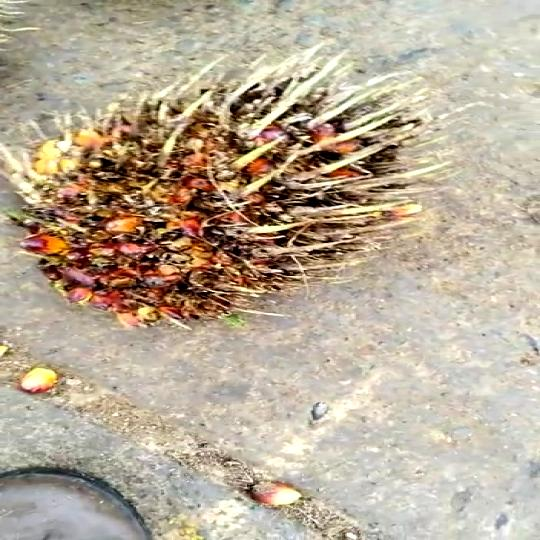terlalu masak: (20, 71, 416, 331)
